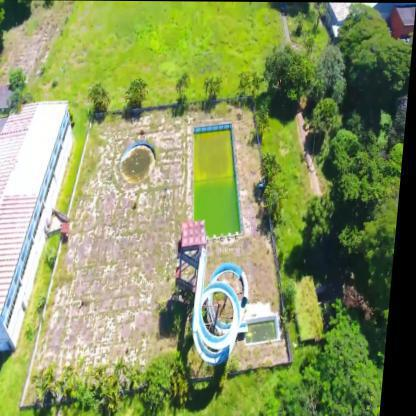agua: (193, 132, 247, 229), (124, 147, 160, 177)
